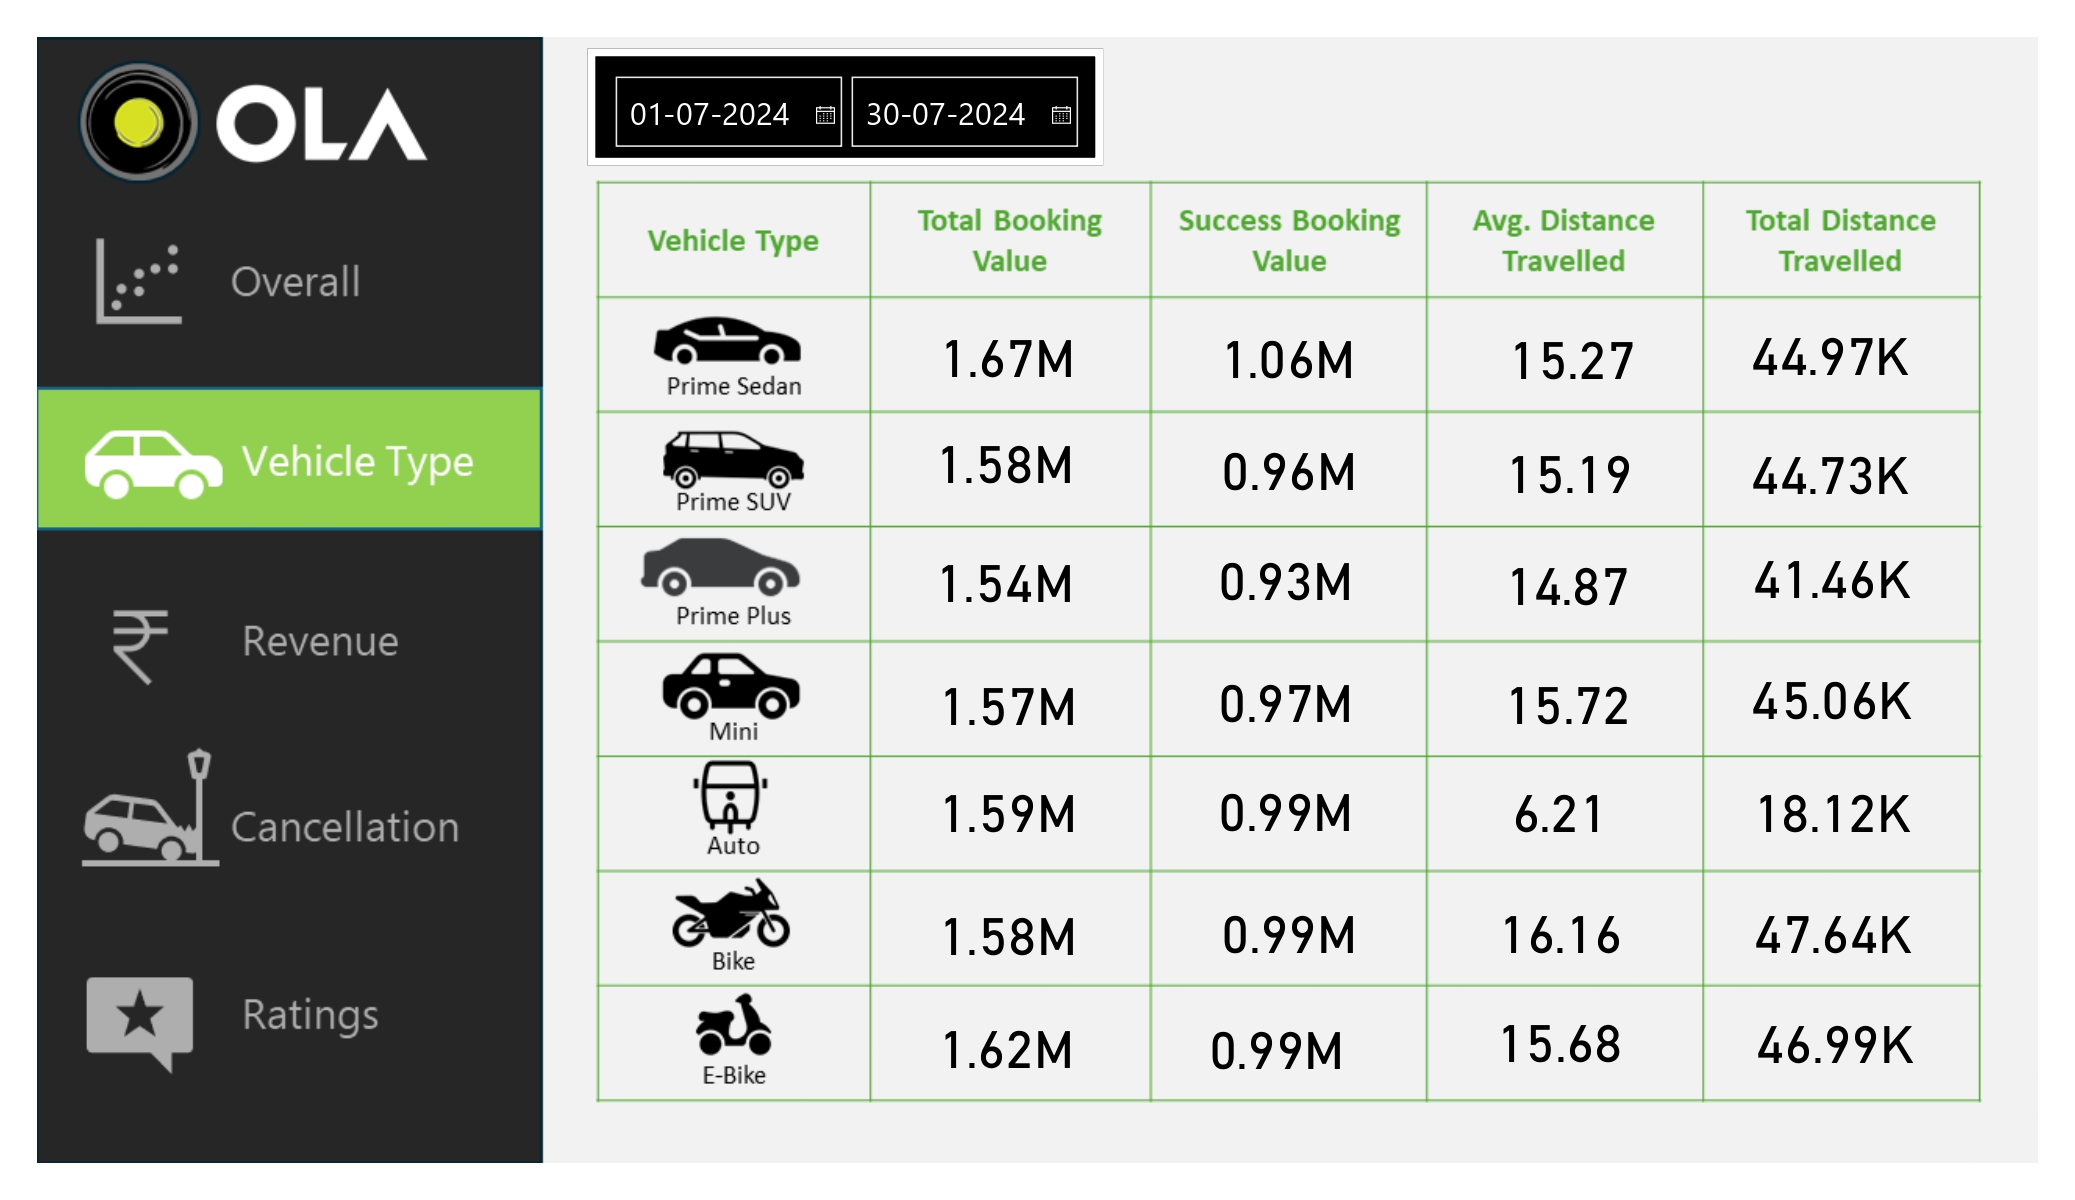

The dashboard page shown, as its layout file describes it:
{"tool":"powerbi","page":{"name":"Vehicle Type","canvas":[1280,720],"ordinal":1},"visuals":[{"type":"actionButton","box":[0,109.4,324.5,98.3],"z":0},{"type":"actionButton","box":[0,344.9,324.5,98.3],"z":1000},{"type":"actionButton","box":[1.9,443.1,324.5,98.3],"z":2000},{"type":"actionButton","box":[1.9,585.9,324.5,98.2],"z":3000},{"type":"card","title":"Total Value","fields":{"Values":["Sum(Bookings.Booking_Value)"]},"box":[537.7,172.4,165,61],"z":4000},{"type":"card","title":"Total Value","fields":{"Values":["Sum(Bookings.Booking_Value)"]},"box":[536.7,240.1,164.2,61.3],"z":5000},{"type":"card","title":"Total Value","fields":{"Values":["Sum(Bookings.Booking_Value)"]},"box":[536.7,316.1,164.2,61.3],"z":6000},{"type":"card","title":"Total Value","fields":{"Values":["Sum(Bookings.Booking_Value)"]},"box":[539.1,394.5,164.2,61.3],"z":7000},{"type":"card","title":"Total Value","fields":{"Values":["Sum(Bookings.Booking_Value)"]},"box":[539.1,463.1,164.2,61.3],"z":8000},{"type":"card","title":"Total Value","fields":{"Values":["Sum(Bookings.Booking_Value)"]},"box":[539.1,541.6,164.2,61.3],"z":9000},{"type":"card","title":"Total Value","fields":{"Values":["Sum(Bookings.Booking_Value)"]},"box":[711.2,615.1,164.1,60.6],"z":10000},{"type":"card","title":"Total Value","fields":{"Values":["Sum(Bookings.Booking_Value)"]},"box":[717.2,171.5,165.6,62.1],"z":11000},{"type":"card","title":"Total Value","fields":{"Values":["Avg(Bookings.Ride_Distance)"]},"box":[899,173,165.6,62.1],"z":12000},{"type":"card","title":"Total Value","fields":{"Values":["Sum(Bookings.Booking_Value)"]},"box":[718.6,244,164.1,62.1],"z":13000},{"type":"card","title":"Total Value","fields":{"Values":["Sum(Bookings.Booking_Value)"]},"box":[717.2,315,164.1,60.6],"z":14000},{"type":"card","title":"Total Value","fields":{"Values":["Sum(Bookings.Booking_Value)"]},"box":[717.2,393.3,164.1,60.6],"z":15000},{"type":"card","title":"Total Value","fields":{"Values":["Sum(Bookings.Booking_Value)"]},"box":[717.2,462.8,164.1,60.6],"z":16000},{"type":"card","title":"Total Value","fields":{"Values":["Sum(Bookings.Booking_Value)"]},"box":[718.6,541.2,164.1,60.6],"z":17000},{"type":"card","title":"Total Value","fields":{"Values":["Sum(Bookings.Booking_Value)"]},"box":[538.2,613.7,164.1,62.1],"z":18000},{"type":"card","title":"Total Value","fields":{"Values":["Avg(Bookings.Ride_Distance)"]},"box":[897.2,245.7,165.6,61.9],"z":19000},{"type":"card","title":"Total Value","fields":{"Values":["Avg(Bookings.Ride_Distance)"]},"box":[897.2,318.5,163.8,60.1],"z":20000},{"type":"card","title":"Total Value","fields":{"Values":["Avg(Bookings.Ride_Distance)"]},"box":[897.2,394.9,163.8,60.1],"z":21000},{"type":"card","title":"Total Value","fields":{"Values":["Avg(Bookings.Ride_Distance)"]},"box":[891.8,464.1,163.8,60.1],"z":22000},{"type":"card","title":"Total Value","fields":{"Values":["Avg(Bookings.Ride_Distance)"]},"box":[891.8,540.5,165.6,60.1],"z":23000},{"type":"card","title":"Total Value","fields":{"Values":["Avg(Bookings.Ride_Distance)"]},"box":[891.8,609.7,163.8,61.9],"z":24000},{"type":"card","title":"Total Value","fields":{"Values":["Sum(Bookings.Ride_Distance)"]},"box":[1064.3,170.6,166.9,61.2],"z":25000},{"type":"card","title":"Total Value","fields":{"Values":["Sum(Bookings.Ride_Distance)"]},"box":[1064.3,246.6,166.9,61.2],"z":26000},{"type":"card","title":"Total Value","fields":{"Values":["Sum(Bookings.Ride_Distance)"]},"box":[1066.1,313.3,165,61.2],"z":27000},{"type":"card","title":"Total Value","fields":{"Values":["Sum(Bookings.Ride_Distance)"]},"box":[1066.1,391.2,165,61.2],"z":28000},{"type":"card","title":"Total Value","fields":{"Values":["Sum(Bookings.Ride_Distance)"]},"box":[1066.1,463.5,165,59.3],"z":29000},{"type":"card","title":"Total Value","fields":{"Values":["Sum(Bookings.Ride_Distance)"]},"box":[1066.1,541.4,166.9,59.3],"z":30000},{"type":"card","title":"Total Value","fields":{"Values":["Sum(Bookings.Ride_Distance)"]},"box":[1068,610,165,63],"z":31000},{"type":"slicer","title":"Date","fields":{"Values":["Bookings.Date"]},"box":[352.3,7.4,330,74.2],"z":31001}]}

Visuals, with their boxes on the page's 1280x720 design canvas (x1, y1, x2, y2). These are canvas units, not pixel positions in the 2075x1200 screenshot, which may show the page scaled, cropped or inside an application window:
actionButton: locate(0, 109, 324, 208)
actionButton: locate(0, 345, 324, 443)
actionButton: locate(2, 443, 326, 541)
actionButton: locate(2, 586, 326, 684)
"Total Value" card: locate(538, 172, 703, 233)
"Total Value" card: locate(537, 240, 701, 301)
"Total Value" card: locate(537, 316, 701, 377)
"Total Value" card: locate(539, 394, 703, 456)
"Total Value" card: locate(539, 463, 703, 524)
"Total Value" card: locate(539, 542, 703, 603)
"Total Value" card: locate(711, 615, 875, 676)
"Total Value" card: locate(717, 172, 883, 234)
"Total Value" card: locate(899, 173, 1065, 235)
"Total Value" card: locate(719, 244, 883, 306)
"Total Value" card: locate(717, 315, 881, 376)
"Total Value" card: locate(717, 393, 881, 454)
"Total Value" card: locate(717, 463, 881, 523)
"Total Value" card: locate(719, 541, 883, 602)
"Total Value" card: locate(538, 614, 702, 676)
"Total Value" card: locate(897, 246, 1063, 308)
"Total Value" card: locate(897, 318, 1061, 379)
"Total Value" card: locate(897, 395, 1061, 455)
"Total Value" card: locate(892, 464, 1056, 524)
"Total Value" card: locate(892, 540, 1057, 601)
"Total Value" card: locate(892, 610, 1056, 672)
"Total Value" card: locate(1064, 171, 1231, 232)
"Total Value" card: locate(1064, 247, 1231, 308)
"Total Value" card: locate(1066, 313, 1231, 374)
"Total Value" card: locate(1066, 391, 1231, 452)
"Total Value" card: locate(1066, 464, 1231, 523)
"Total Value" card: locate(1066, 541, 1233, 601)
"Total Value" card: locate(1068, 610, 1233, 673)
"Date" slicer: locate(352, 7, 682, 82)
